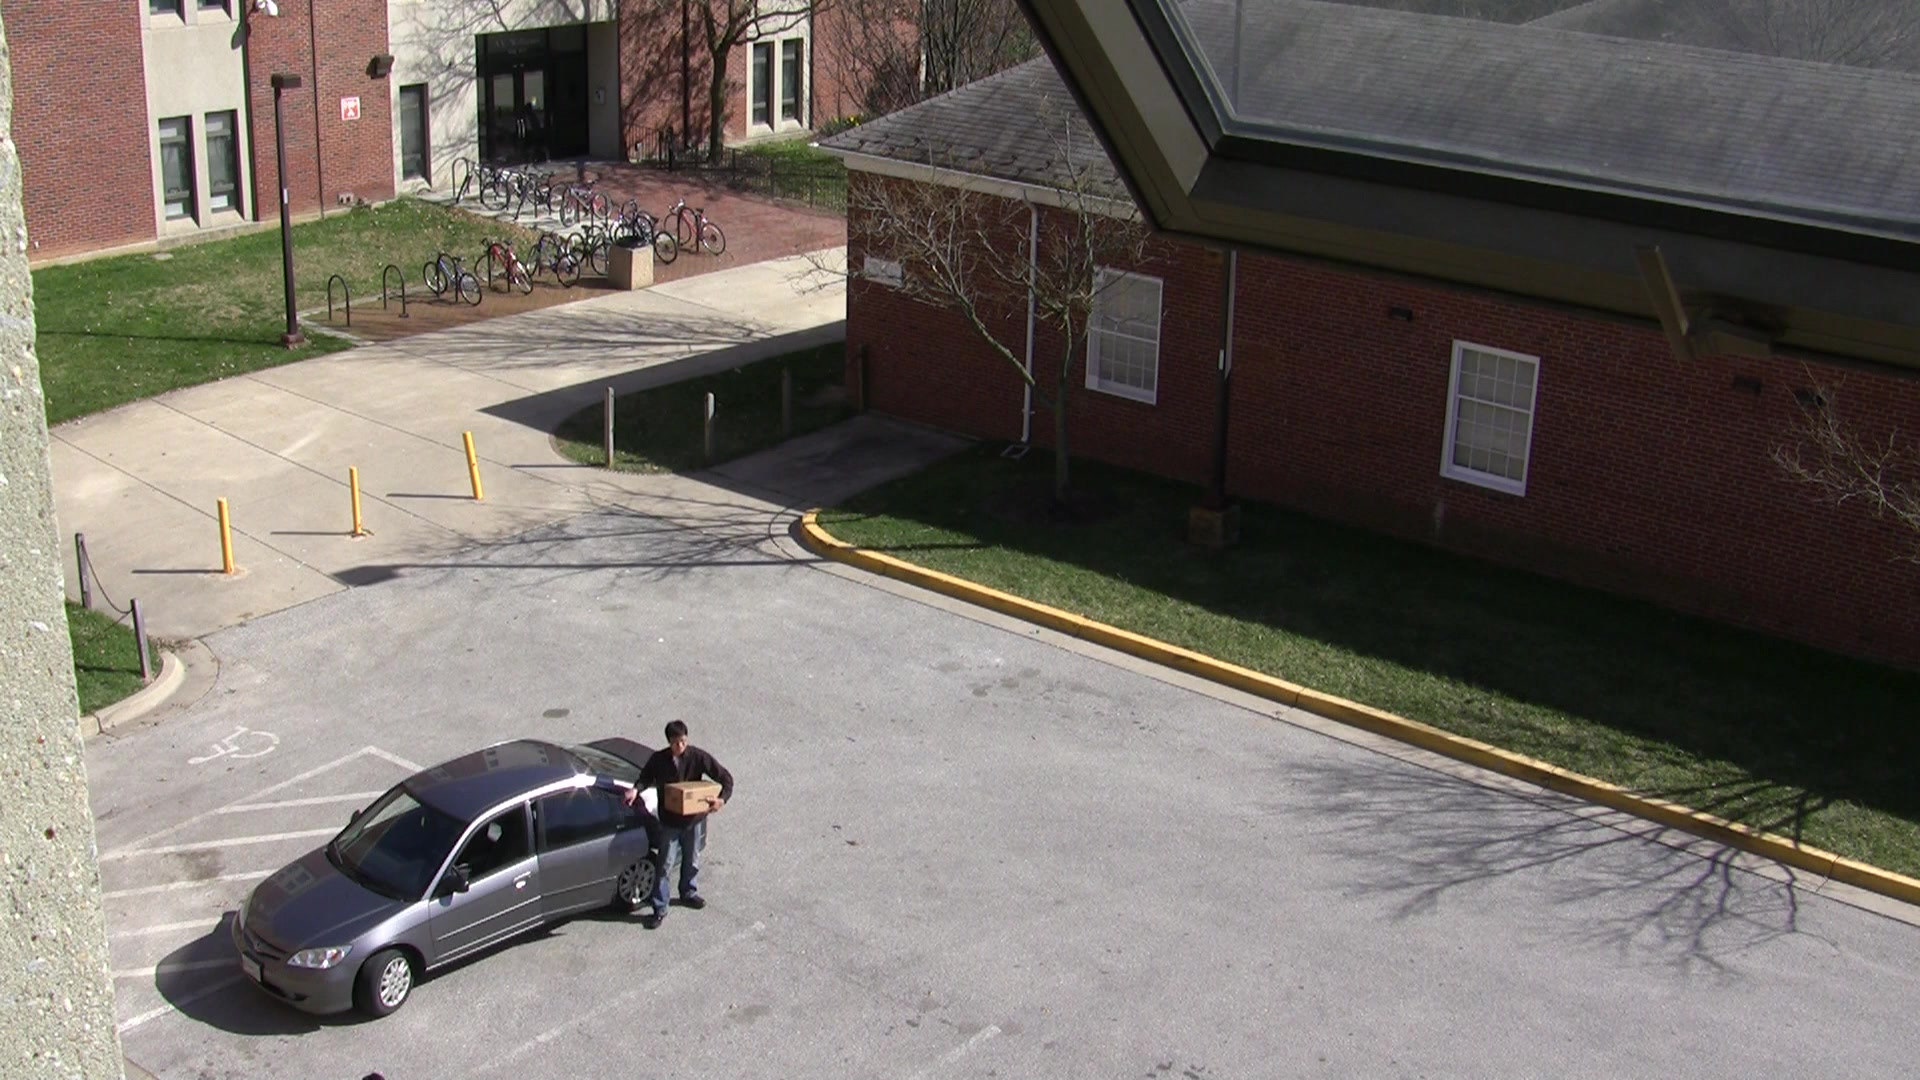person: (633, 711, 731, 936)
